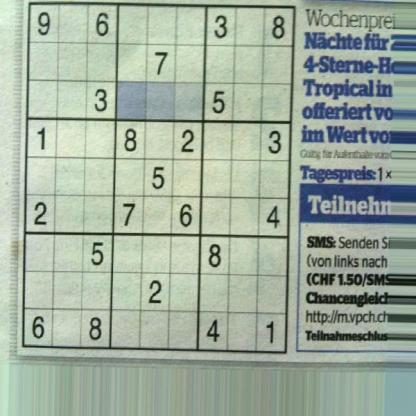sudoku: (21, 0, 298, 356)
